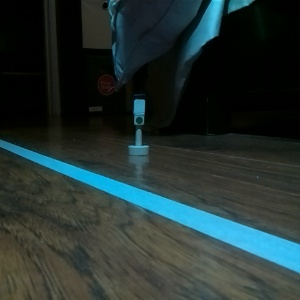traffic light green: (127, 91, 150, 158)
